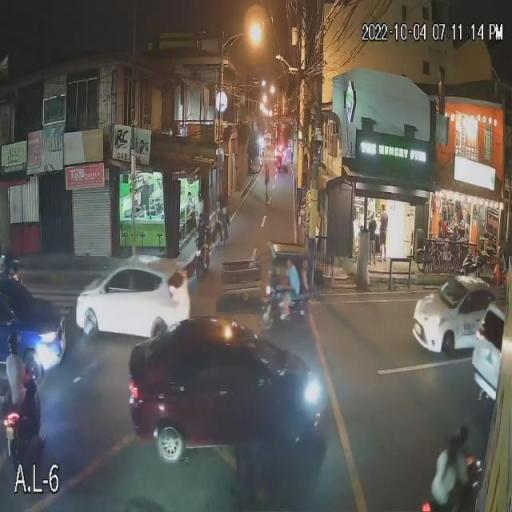helmet: (7, 331, 25, 352), (458, 423, 472, 442)
motorcycle: (6, 379, 44, 455), (433, 465, 483, 512)
rider: (451, 414, 475, 490), (429, 438, 459, 496), (6, 329, 26, 411)
